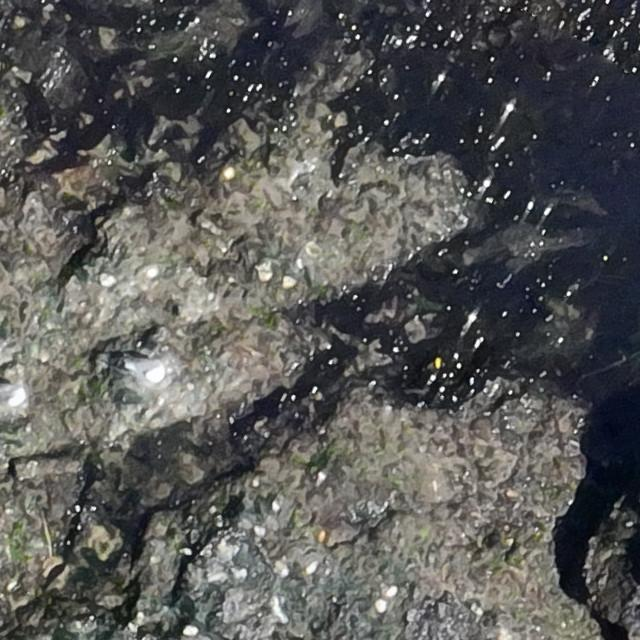umineko: (120, 353, 166, 385)
